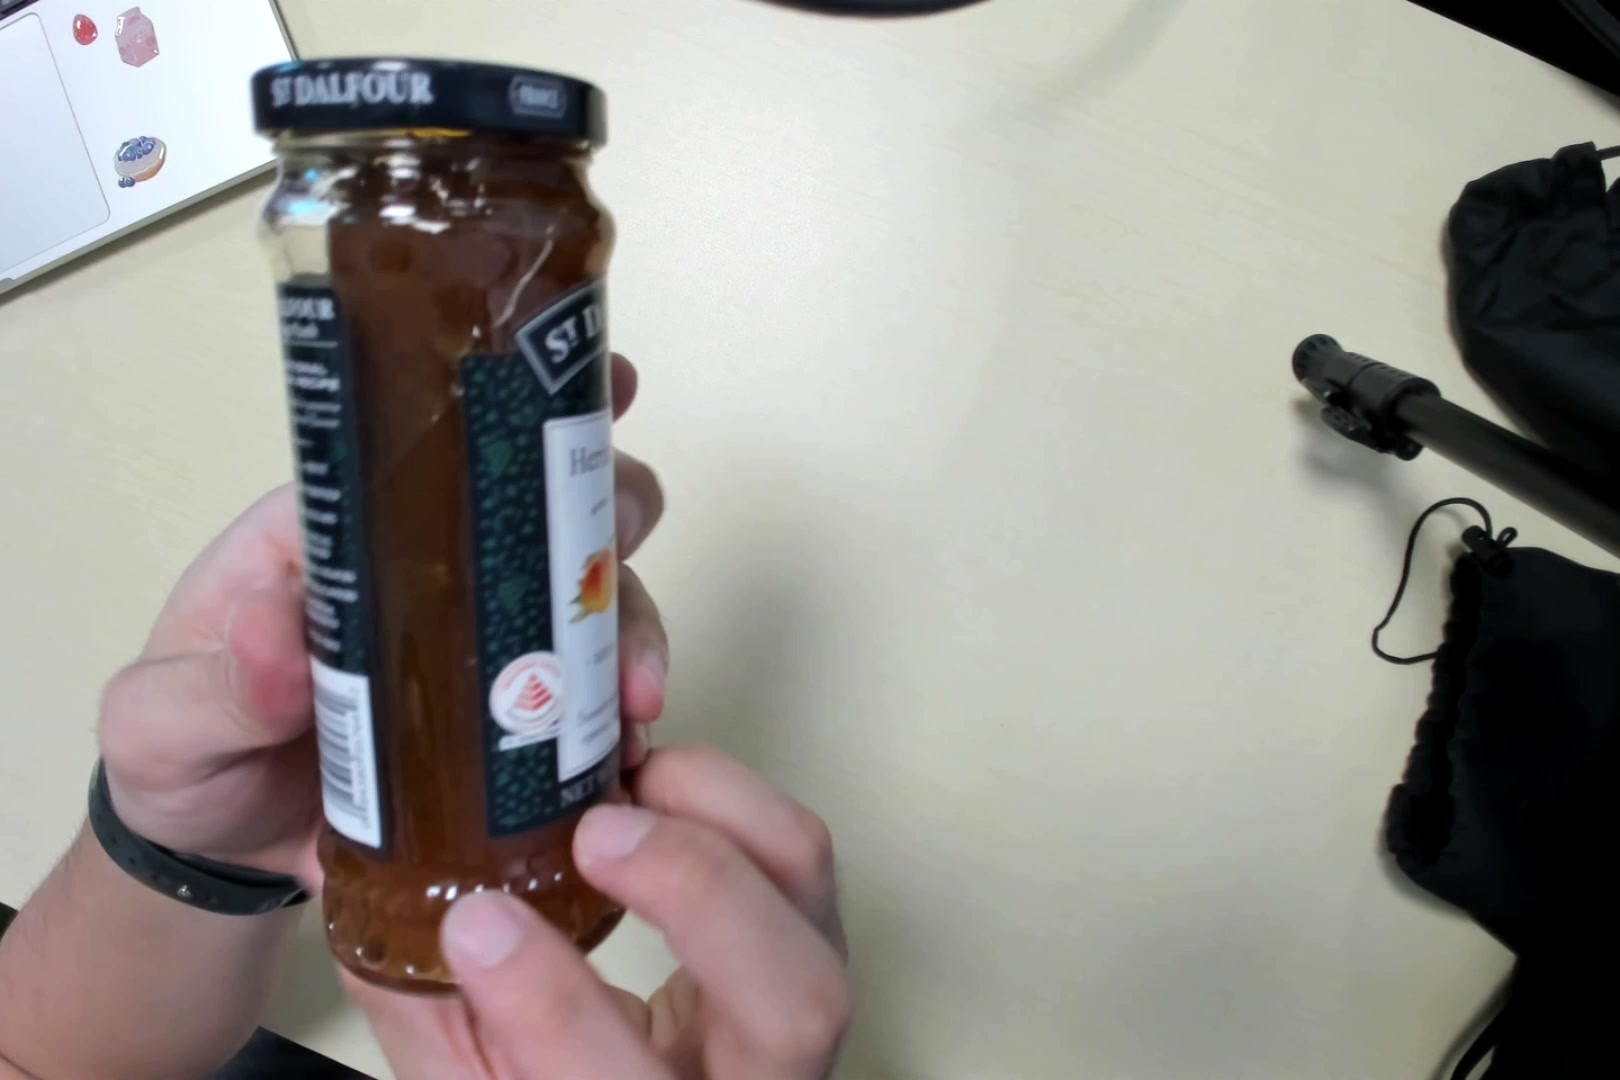Jam_200-299g_Halal_Healthy: (250, 55, 632, 1000)
